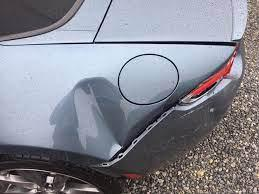quaterpanel-dent: (0, 43, 173, 162)
